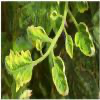Tomato leaf yellow virus: (4, 46, 35, 91), (73, 19, 95, 59), (50, 55, 69, 95), (26, 21, 49, 49), (65, 33, 73, 60)
